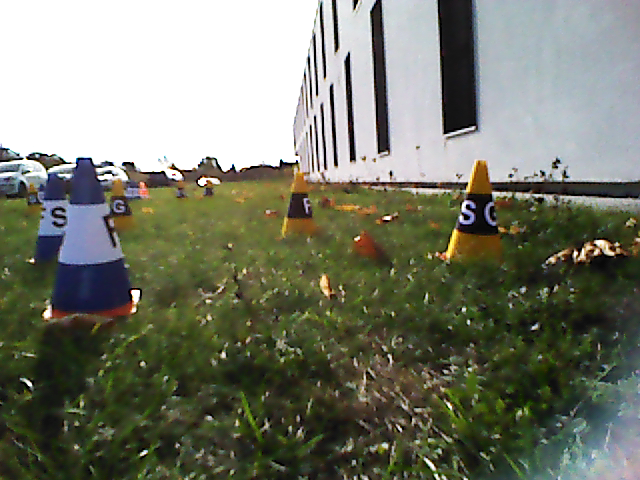bluecone: (54, 159, 128, 306), (37, 175, 65, 260)
yellowcone: (448, 160, 504, 256), (283, 173, 317, 235), (111, 181, 135, 230)
